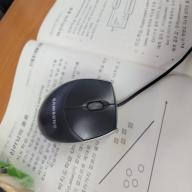Mouse: (38, 80, 118, 142)
